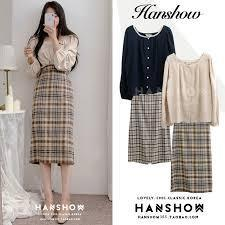Tshirt: (24, 34, 86, 75)
skirt: (28, 67, 82, 171)
